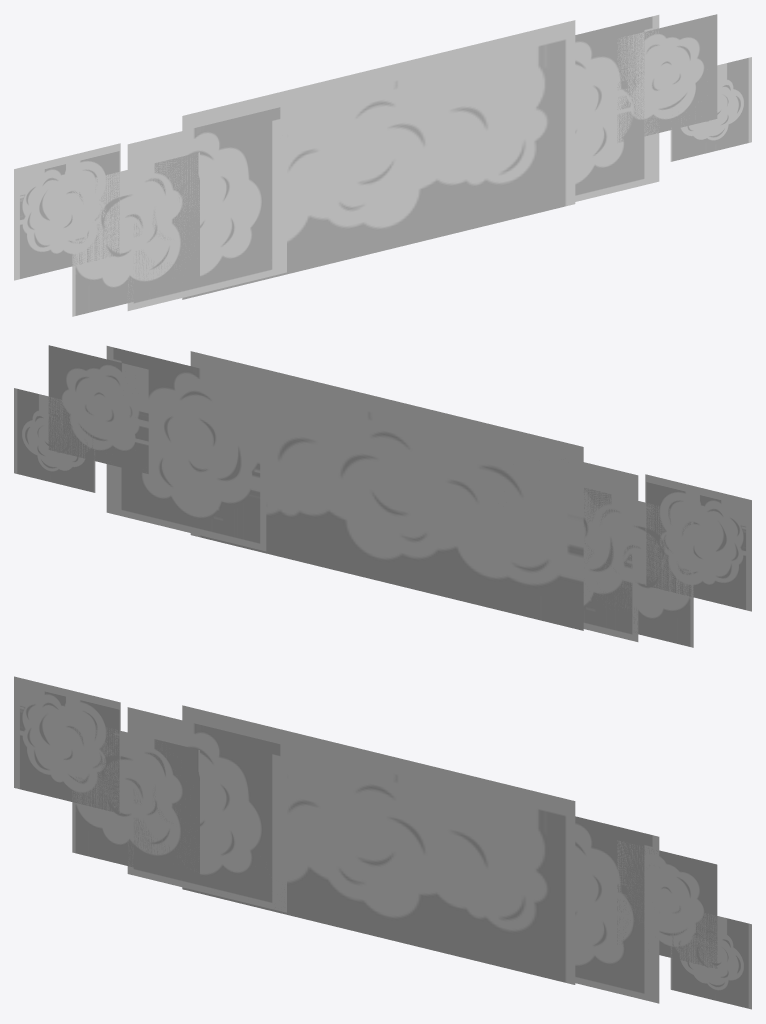
The model's file is puff_balk_214.glb.
3 renders of one model, top to bottom at view 1: azimuth 30°, elevation 25°; view 2: azimuth 150°, elevation 25°; view 3: azimuth 330°, elevation 25°, orthographic.
Parts seen in each view (by area): view 1: puff6, puff5_1, puff1, puff5, puff2, puff3, puff4; view 2: puff6, puff5, puff2, puff3, puff1, puff5_1, puff4; view 3: puff6, puff5_1, puff1, puff5, puff2, puff3, puff4.
Boxes of the visible parts, box(x1,y1,x2,y2) form: puff6: box(182, 20, 575, 299); puff5_1: box(127, 105, 286, 310); puff1: box(72, 152, 199, 316); puff5: box(575, 15, 659, 201); puff2: box(14, 143, 120, 280); puff3: box(617, 14, 717, 142); puff4: box(670, 57, 751, 161); puff6: box(190, 351, 583, 630); puff5: box(106, 346, 266, 551); puff2: box(645, 474, 751, 611); puff3: box(48, 345, 148, 473); puff1: box(584, 488, 693, 647); puff5_1: box(583, 462, 638, 641); puff4: box(14, 388, 95, 492); puff6: box(182, 705, 575, 984); puff5_1: box(127, 707, 286, 912); puff1: box(72, 719, 199, 883); puff5: box(575, 816, 659, 1003); puff2: box(14, 676, 120, 813); puff3: box(617, 840, 717, 968); puff4: box(670, 905, 751, 1009).
Size of the model in its own units: 125 by 29.76 by 5.81e-06.
1 material, 1 textured.
